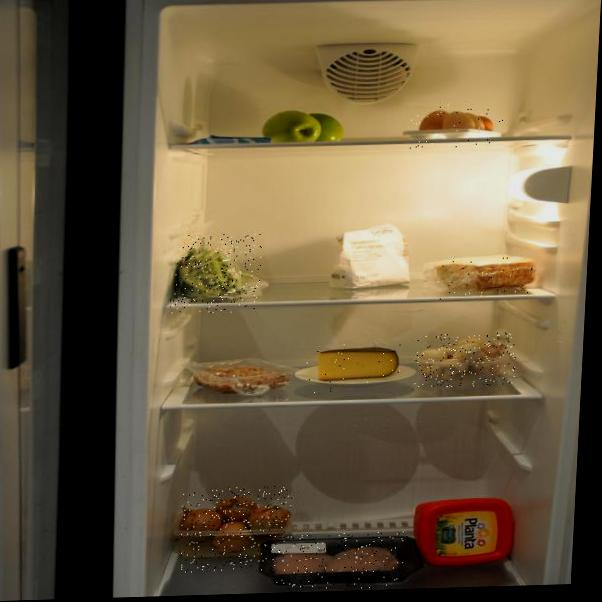apple: (265, 102, 350, 145)
bread: (434, 255, 535, 301)
cheese: (304, 342, 410, 395)
eggs: (402, 102, 504, 153)
green beans: (169, 233, 263, 314)
meat: (275, 531, 408, 591)
mushroom: (414, 332, 517, 388)
onion: (179, 486, 292, 573)
